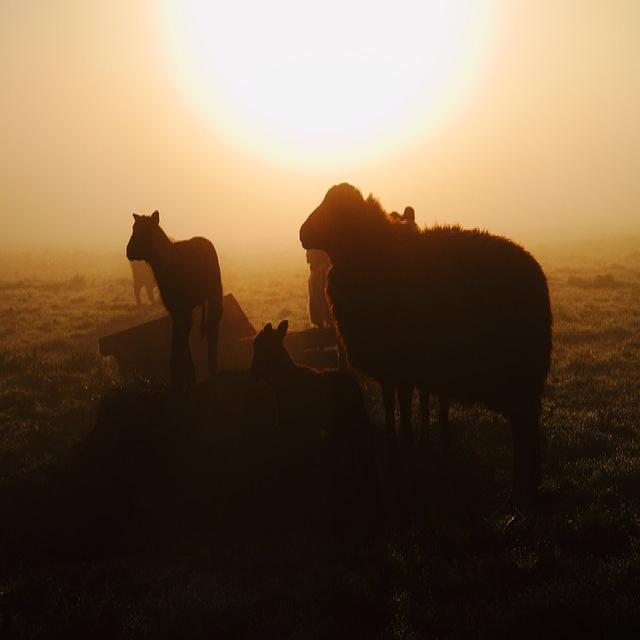goat: (298, 183, 553, 503)
